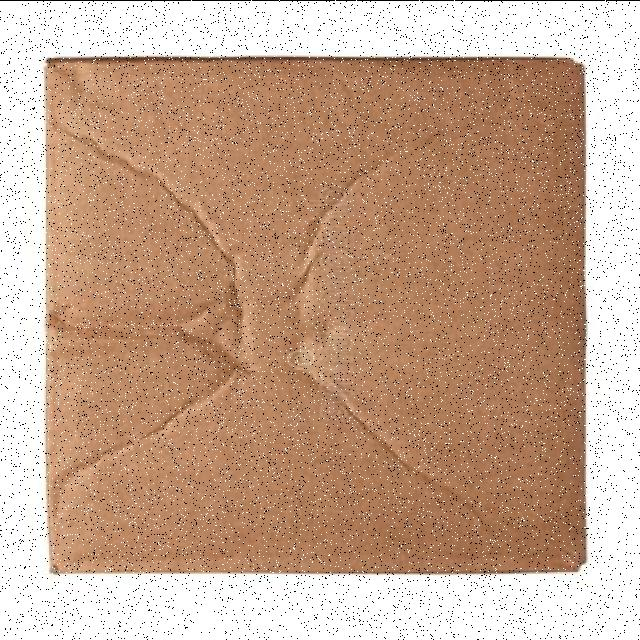normal: (38, 50, 594, 578)
